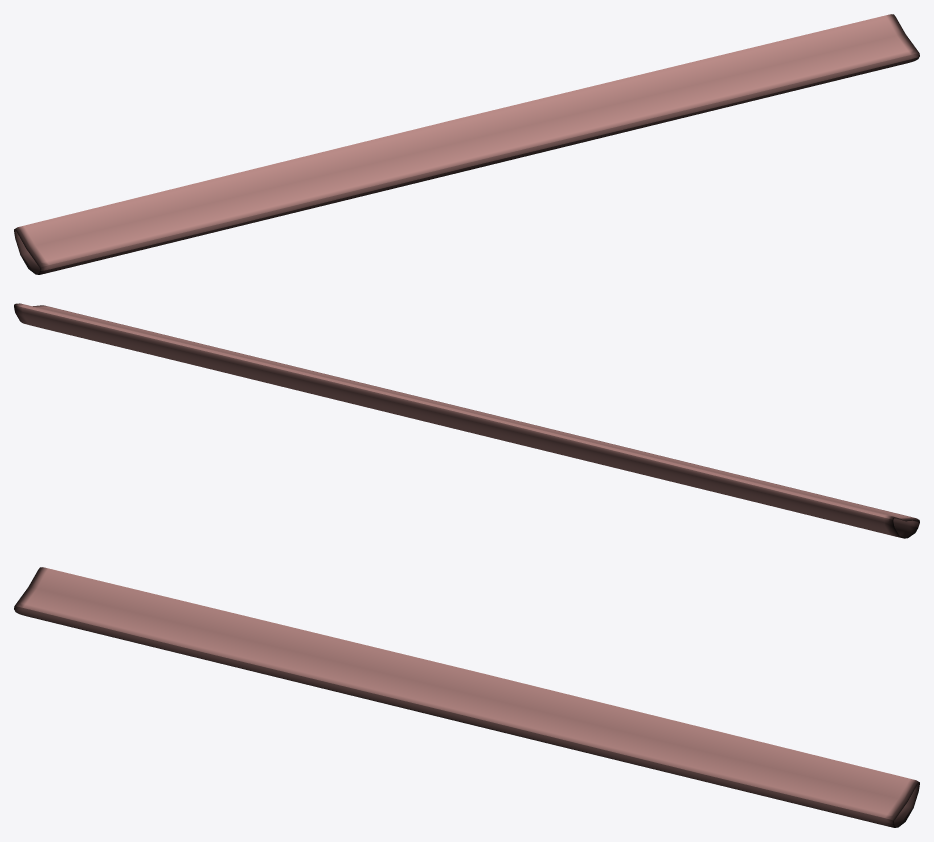
Rendered from R34_Spoiler01_Trim.fbx.
3 renders of one model, top to bottom at view 1: azimuth 30°, elevation 25°; view 2: azimuth 150°, elevation 25°; view 3: azimuth 330°, elevation 25°, orthographic.
Parts seen in each view (by area): view 1: R34_Spoiler01_Trim; view 2: R34_Spoiler01_Trim; view 3: R34_Spoiler01_Trim.
Part boxes in pixels (bbox=[...]): R34_Spoiler01_Trim: bbox=[14, 14, 919, 274]; R34_Spoiler01_Trim: bbox=[14, 303, 919, 538]; R34_Spoiler01_Trim: bbox=[14, 567, 919, 827].
Size of the model in its own units: 132 by 4.82 by 7.19.
